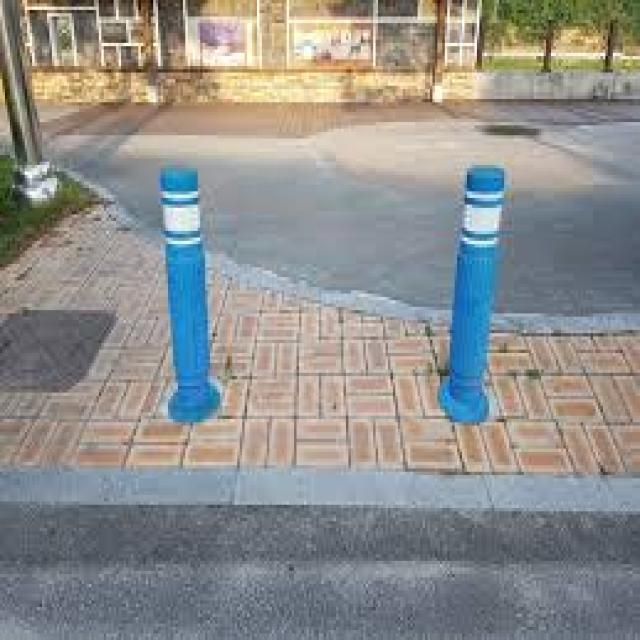bollard: (150, 154, 234, 430), (434, 146, 513, 434)
